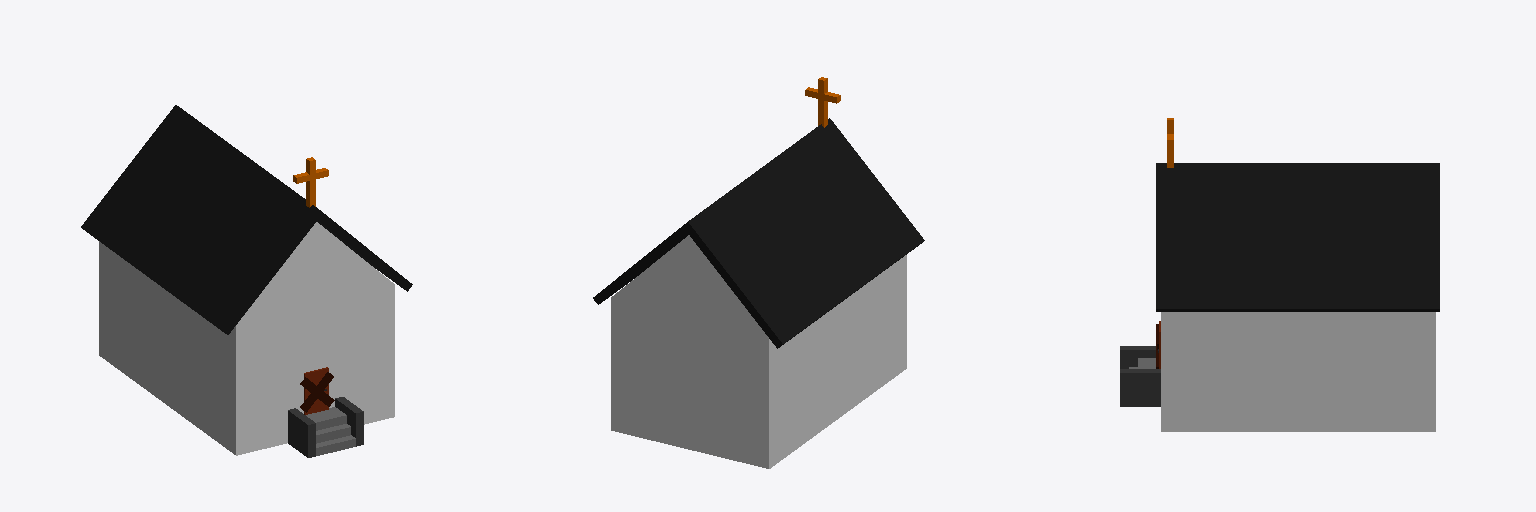
File: church.obj
3 renders of one model, left to right at view 1: azimuth 30°, elevation 25°; view 2: azimuth 150°, elevation 25°; view 3: azimuth 270°, elevation 25°, orthographic.
Parts seen in each view (by area): view 1: Cube.009; view 2: Cube.009; view 3: Cube.009.
Boxes of the visible parts, x1=… form: Cube.009: x1=81, y1=105, x2=412, y2=457; Cube.009: x1=593, y1=77, x2=924, y2=468; Cube.009: x1=1120, y1=118, x2=1439, y2=431.
Size of the model in its own units: 24.02 by 33 by 35.